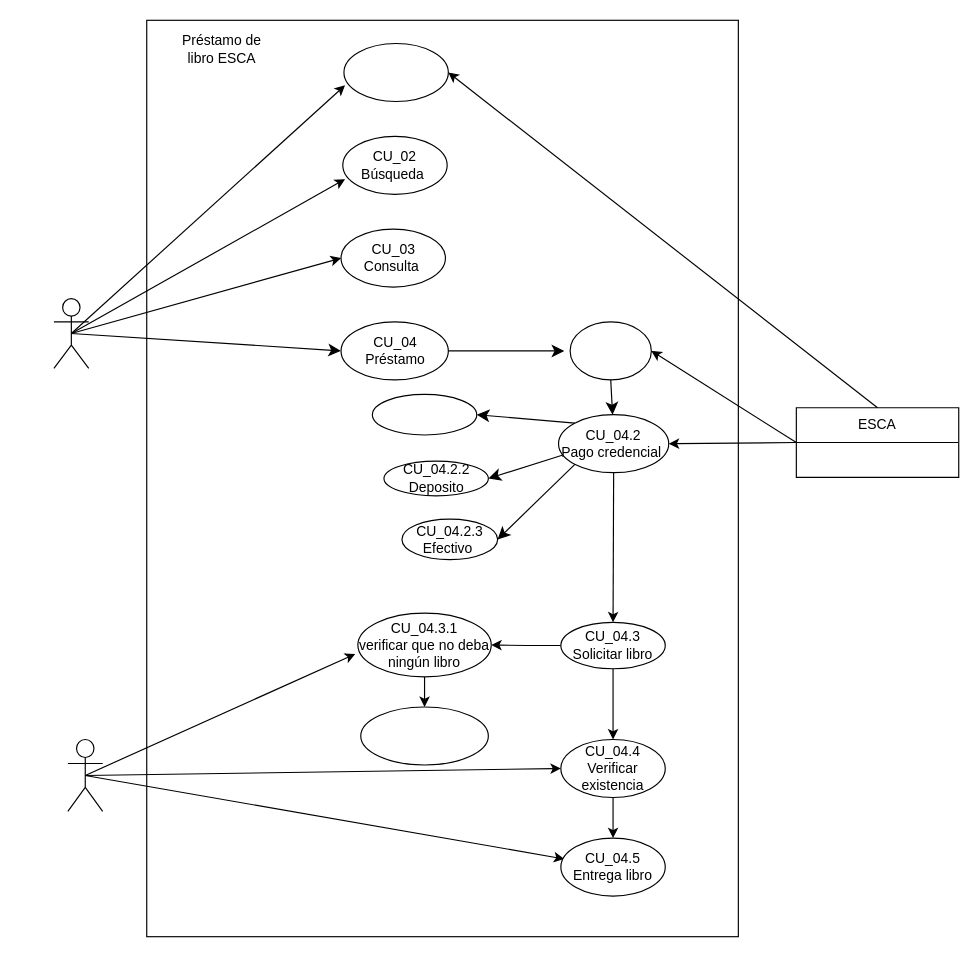
The diagram is 979 pixels wide and 957 high, and some of its shapes have lost their labels. The centre of each missing label's shape, as x and y in pixels:
Alumno/profesor: point (71, 333)
Bibliotecario/a: point (85, 774)
CU_01 Registro: point (395, 72)
CU_04.1 Solicitud credencial: point (610, 350)
CU_04.2.1 Transferencia: point (424, 414)
CU_04.3.1.1 Deuda_Cancelación: point (424, 735)
